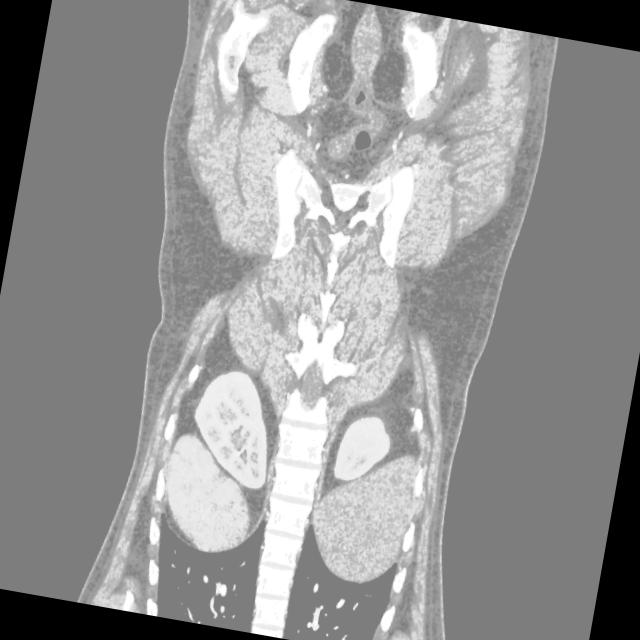NORMAL: (71, 215, 529, 616)
